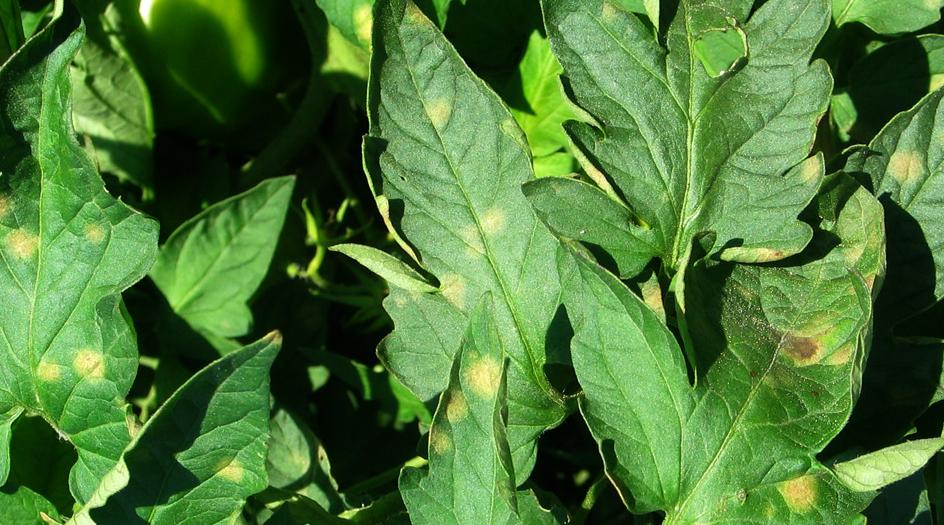Tomato mold leaf: (315, 0, 591, 439), (557, 203, 920, 525), (527, 0, 858, 266), (0, 17, 139, 513), (40, 346, 288, 525), (830, 27, 944, 316), (399, 289, 529, 525)
